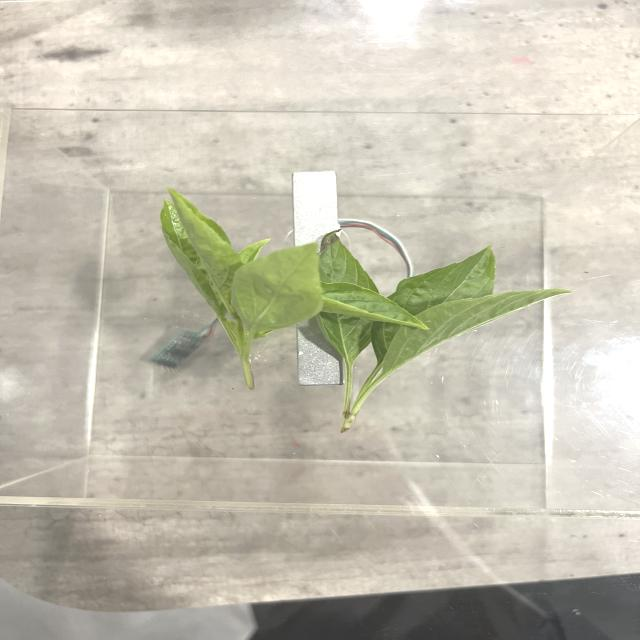thai basil: (157, 193, 565, 427)
